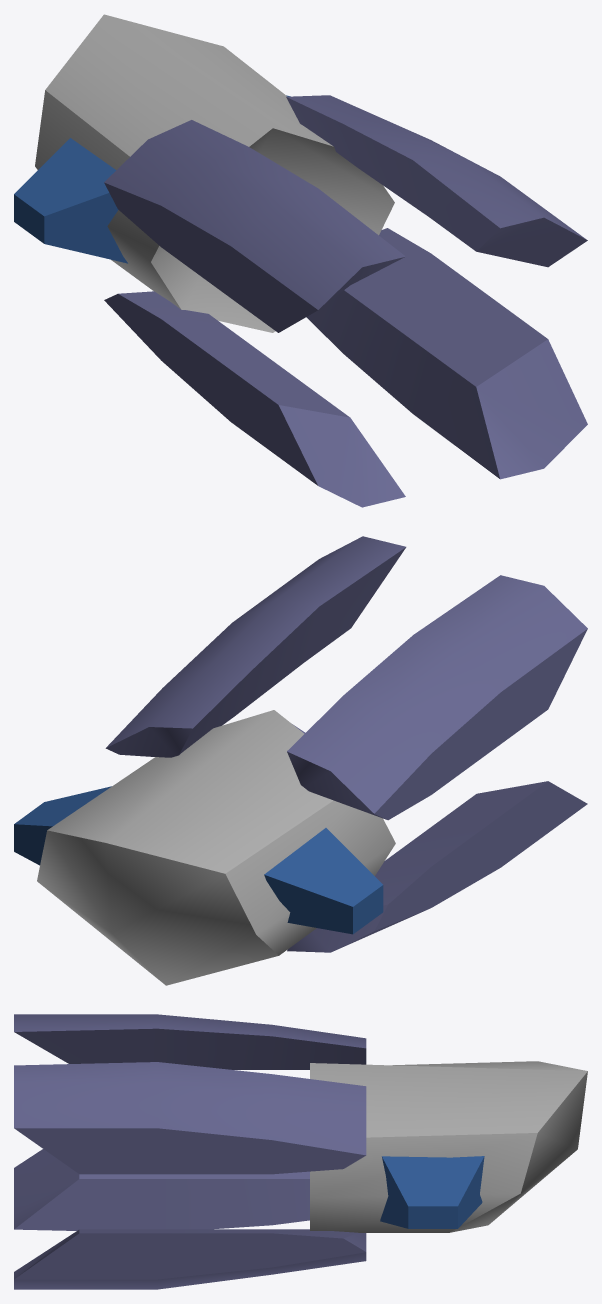
Rendered from Inceptor.fbx.
3 renders of one model, top to bottom at view 1: azimuth 30°, elevation 25°; view 2: azimuth 150°, elevation 25°; view 3: azimuth 270°, elevation 25°, orthographic. The views are drawn at different scales.
Visible parts, largest first — view 1: Inceptor; view 2: Inceptor; view 3: Inceptor.
Part boxes in pixels (<box>): Inceptor: <box>14,14,587,507</box>; Inceptor: <box>14,536,587,985</box>; Inceptor: <box>14,1014,587,1289</box>.
Size of the model in its own units: 3.88 by 2.78 by 6.89.
